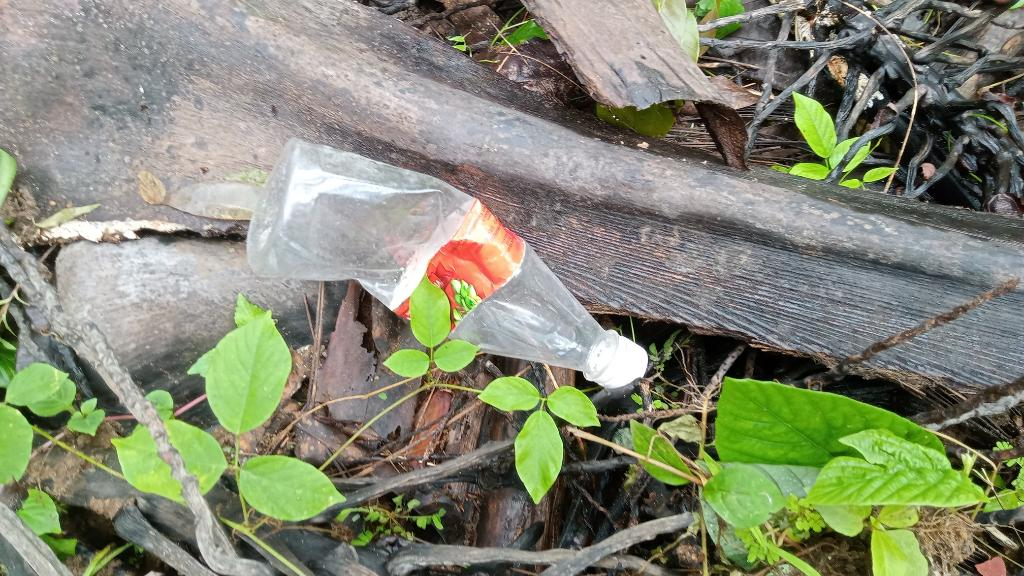garbage: (232, 125, 662, 402)
